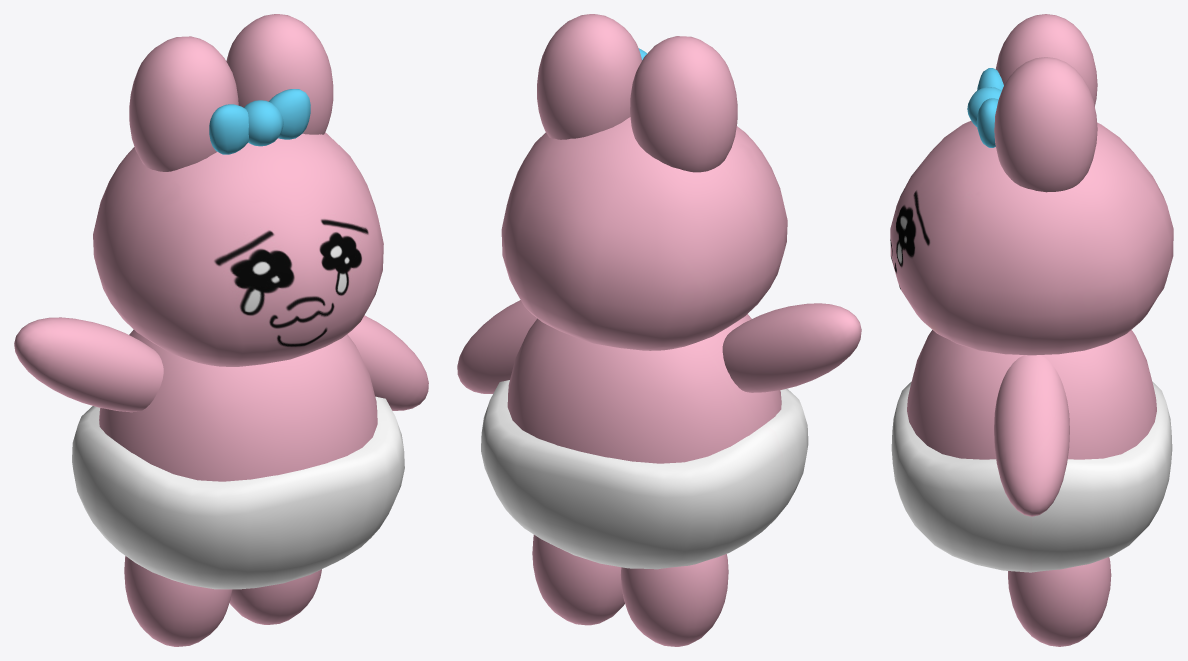
File: opanchu5.gltf
3 views of the same model, side by side, from view 1: azimuth 30°, elevation 25°; view 2: azimuth 150°, elevation 25°; view 3: azimuth 270°, elevation 25° (orthographic). The views are drawn at different scales.
Parts seen in each view (by area): view 1: Cube.004, Cube.006, Cube.005, Cube.002, Cube.009, Cube.003, Cube.008, Cube.011, Cube.010, Sphere.002, Sphere.001, Sphere; view 2: Cube.004, Cube.006, Cube.005, Cube.002, Cube.003, Cube.009, Cube.008, Cube.010, Cube.011; view 3: Cube.004, Cube.006, Cube.005, Cube.003, Cube.011, Cube.010, Cube.002, Sphere.001, Sphere, Sphere.002.
Part boxes in pixels (x1,y1,x2,y2): Cube.004: [93, 132, 383, 366]; Cube.006: [72, 396, 404, 589]; Cube.005: [99, 329, 377, 481]; Cube.002: [129, 36, 238, 171]; Cube.009: [14, 317, 163, 412]; Cube.003: [226, 14, 333, 134]; Cube.008: [124, 556, 232, 646]; Cube.011: [347, 315, 428, 410]; Cube.010: [229, 569, 321, 624]; Sphere.002: [209, 104, 248, 154]; Sphere.001: [268, 89, 310, 139]; Sphere: [244, 100, 283, 146]; Cube.004: [501, 117, 787, 350]; Cube.006: [481, 380, 808, 569]; Cube.005: [507, 314, 781, 463]; Cube.002: [630, 36, 737, 172]; Cube.003: [537, 14, 641, 139]; Cube.009: [722, 303, 861, 392]; Cube.008: [621, 554, 728, 646]; Cube.010: [532, 535, 624, 625]; Cube.011: [457, 300, 537, 393]; Cube.004: [890, 121, 1173, 355]; Cube.006: [891, 382, 1172, 572]; Cube.005: [907, 330, 1156, 459]; Cube.003: [994, 57, 1097, 192]; Cube.011: [994, 355, 1069, 516]; Cube.010: [1008, 557, 1111, 646]; Cube.002: [995, 14, 1097, 106]; Sphere.001: [976, 98, 998, 147]; Sphere: [967, 87, 1001, 126]; Sphere.002: [977, 68, 1003, 90].
Bounding box in the file's own units: 39.41 × 56.26 × 24.77.
1 material, 1 textured.
